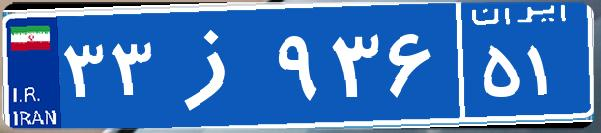1: (525, 38, 570, 115)
3: (330, 28, 385, 110), (57, 26, 110, 107), (110, 28, 158, 105)
5: (475, 38, 525, 113)
6: (385, 28, 445, 110)
9: (273, 28, 330, 110)
ز: (158, 15, 273, 115)
